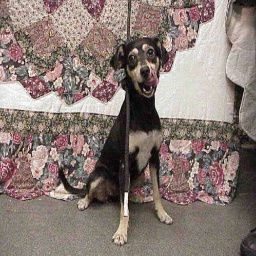dog: (55, 35, 173, 245)
